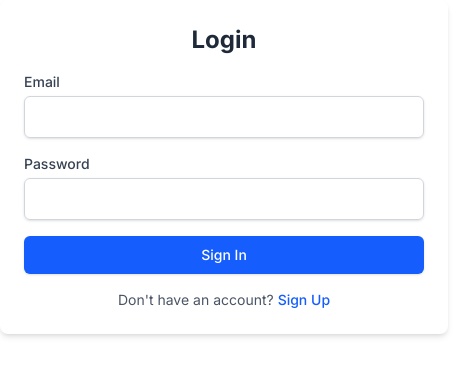
Test: auth flow › shows an error for invalid login credentials
The width and height of the screenshot is (466, 391).
Type "test@example.com" into the field with test id "auth-login-email" at (224, 117), box [24,96,424,138]
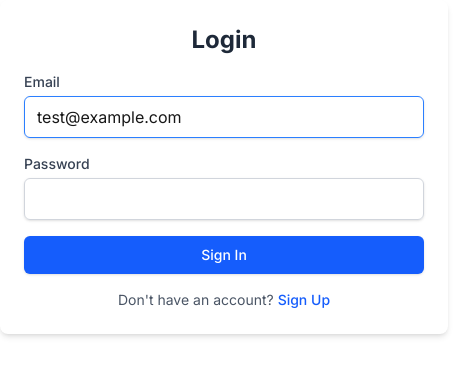
Type "wrong" into the password field with test id "auth-login-password" at (224, 199), box [24,178,424,220]
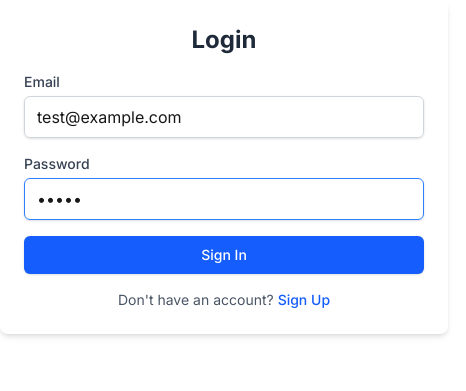
Click the button with test id "auth-login-submit" at (224, 255), box [24,236,424,274]
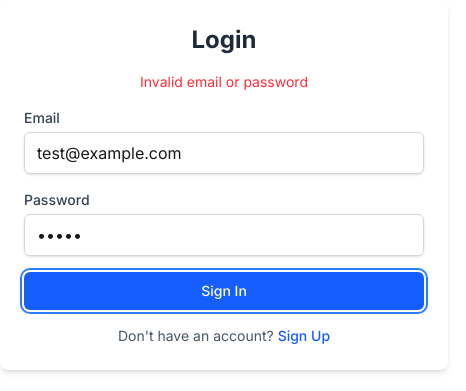
Result: the text "Invalid email or password" is shown at [140,73,308,90]
